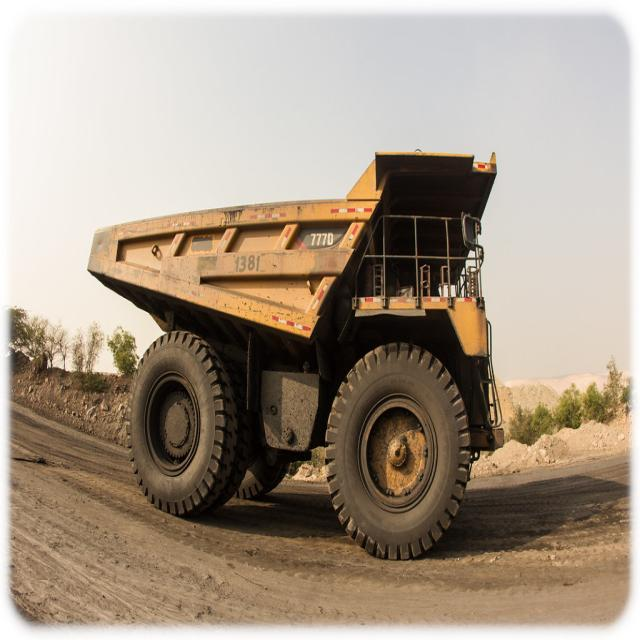dump_truck: (80, 143, 500, 551)
